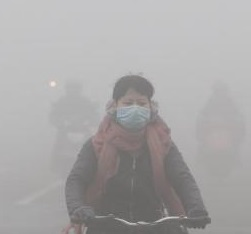person: (63, 71, 213, 234), (47, 75, 108, 181), (189, 77, 248, 184)
